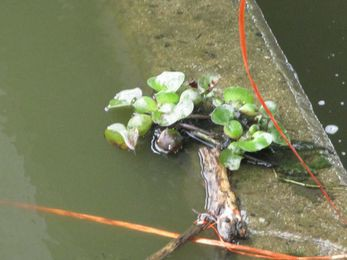water_hyacinth: (87, 60, 333, 184)
